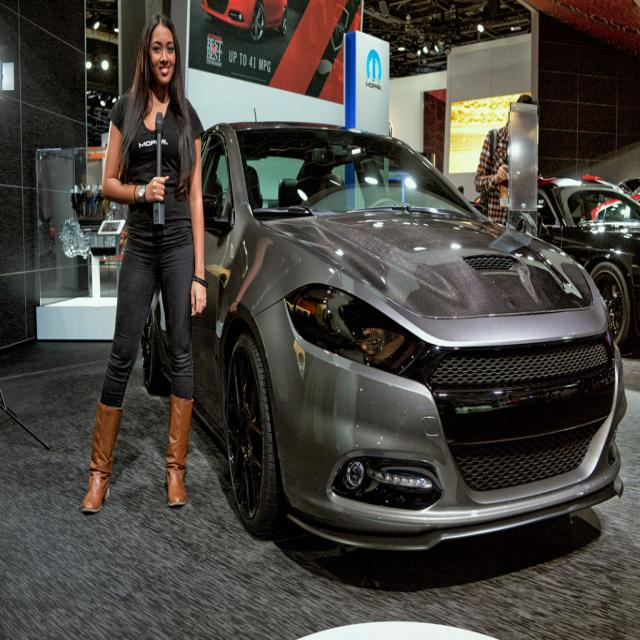car: (146, 109, 624, 560)
